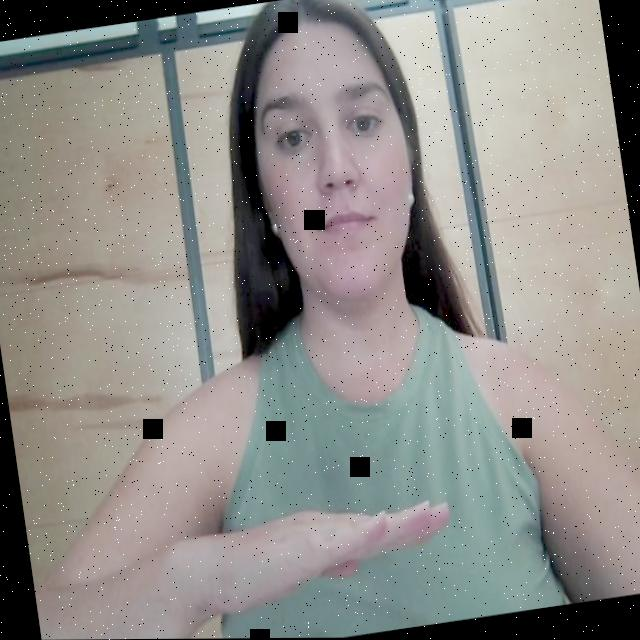Paper: (190, 460, 468, 633)
